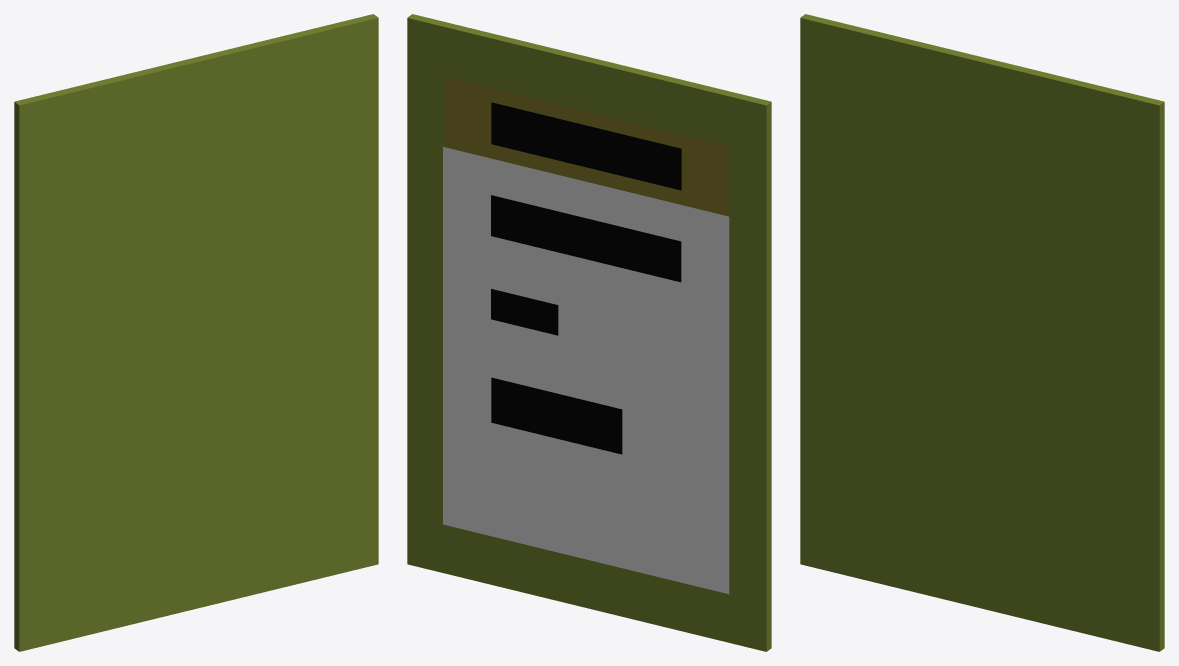
The model's file is Menu.fbx.
3 views of the same model, side by side, from view 1: azimuth 30°, elevation 25°; view 2: azimuth 150°, elevation 25°; view 3: azimuth 330°, elevation 25° (orthographic).
Parts seen in each view (by area): view 1: Menu2; view 2: Menu2; view 3: Menu2.
Boxes of the visible parts, x1=… form: Menu2: x1=14, y1=14, x2=378, y2=651; Menu2: x1=407, y1=14, x2=771, y2=651; Menu2: x1=800, y1=14, x2=1164, y2=651.
Bounding box in the file's own units: 330 × 480 × 8.36.
